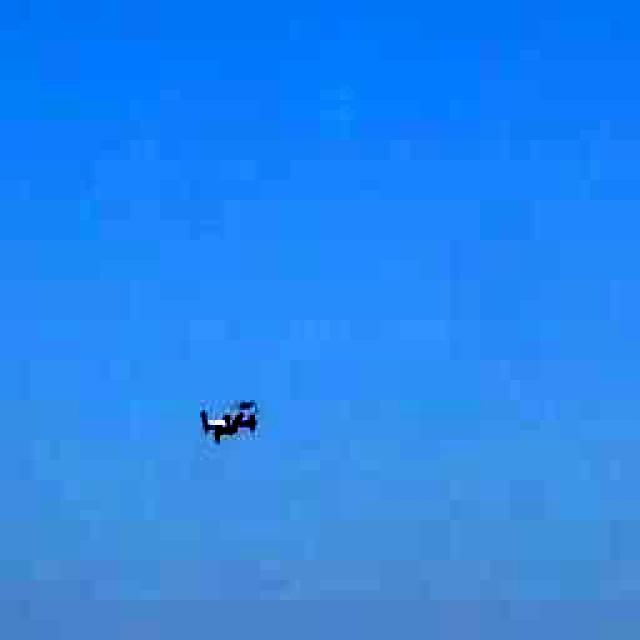bird: (171, 376, 284, 464)
